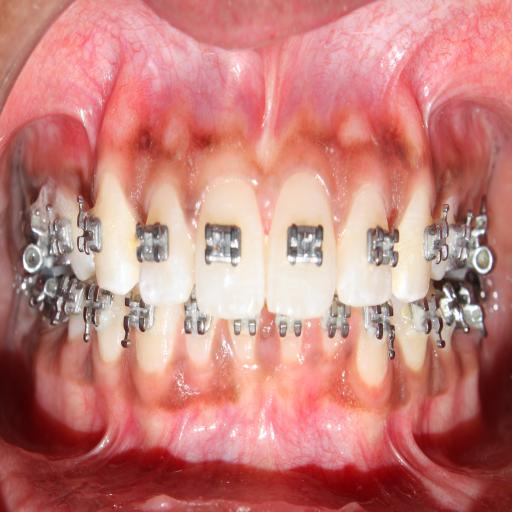correct_brace: (201, 215, 245, 274), (283, 213, 325, 274), (135, 211, 171, 268), (366, 218, 400, 276), (80, 205, 104, 261), (421, 222, 450, 266)
incorrect_brace: (133, 168, 197, 317), (337, 171, 396, 310)
